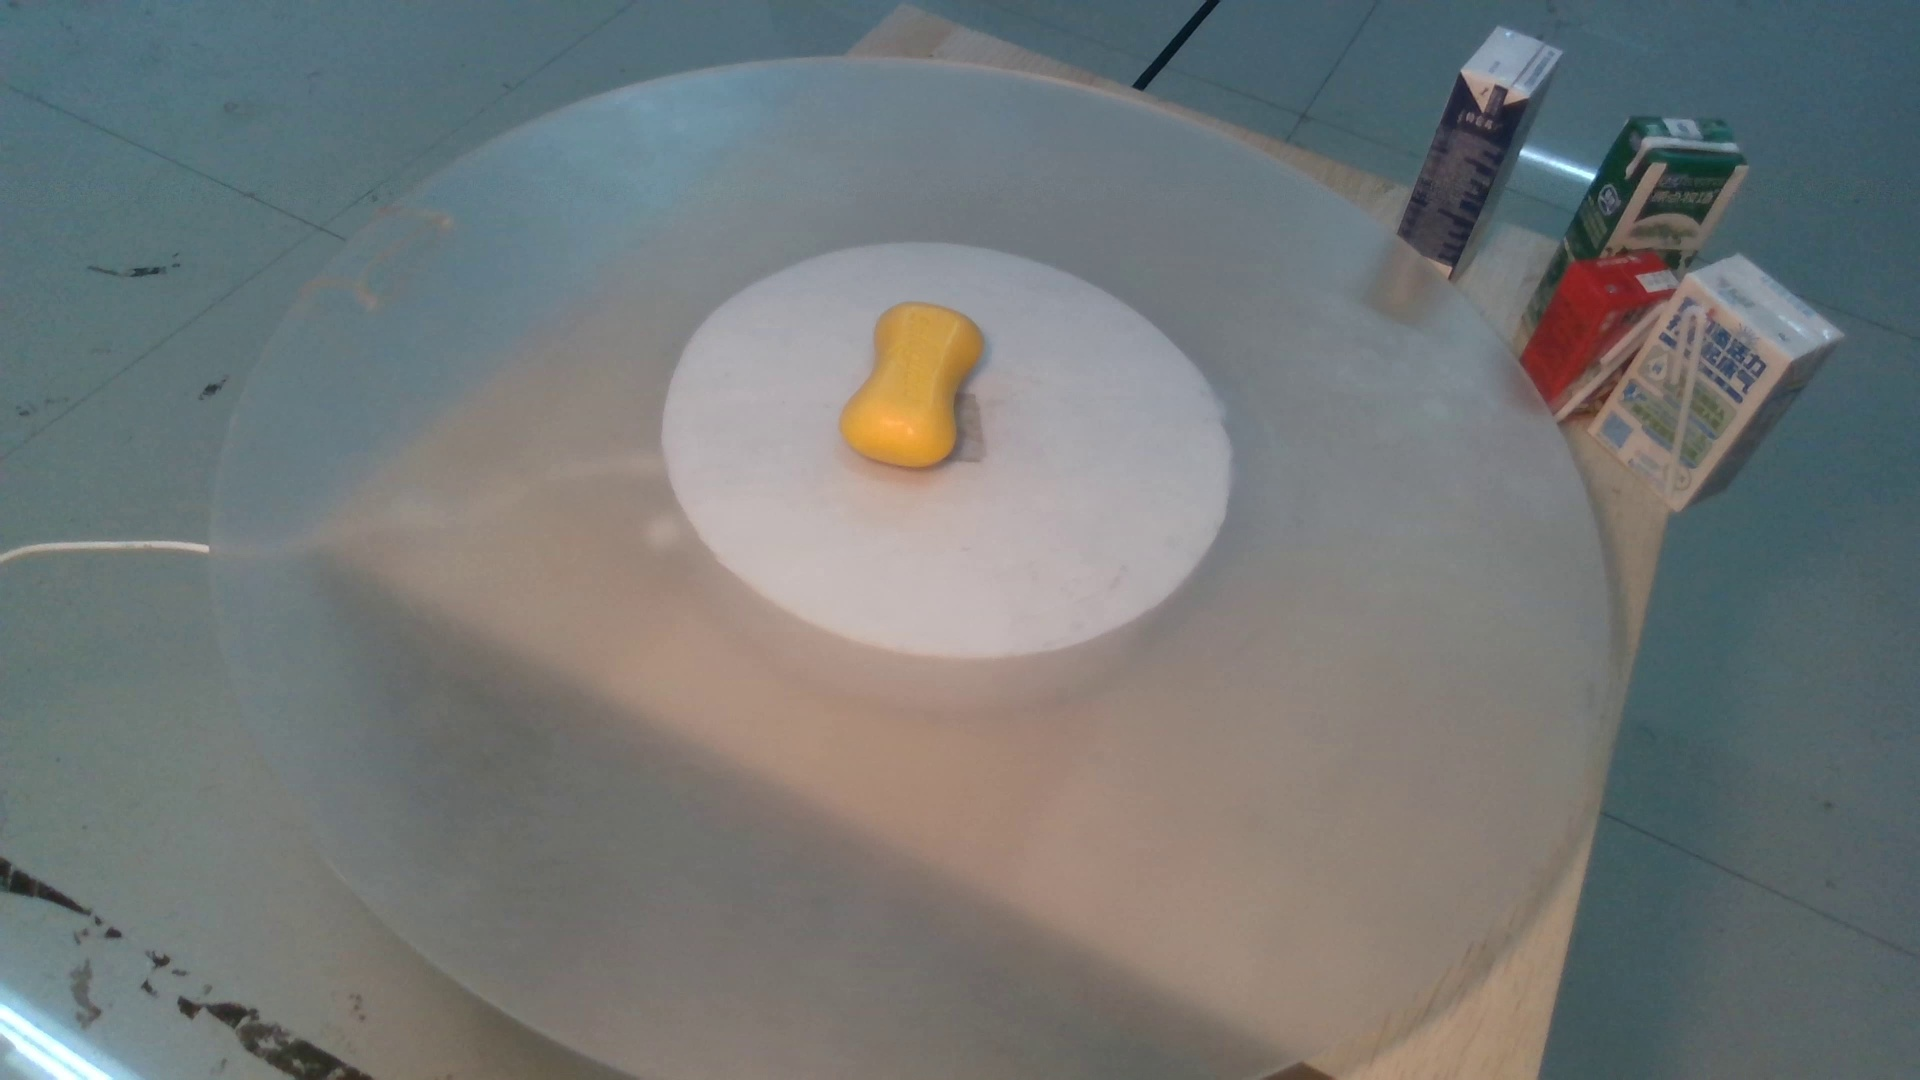CA003_1: (810, 280, 1015, 483)
